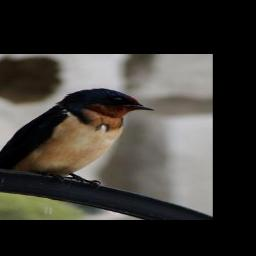Swallow: (0, 87, 156, 188)
